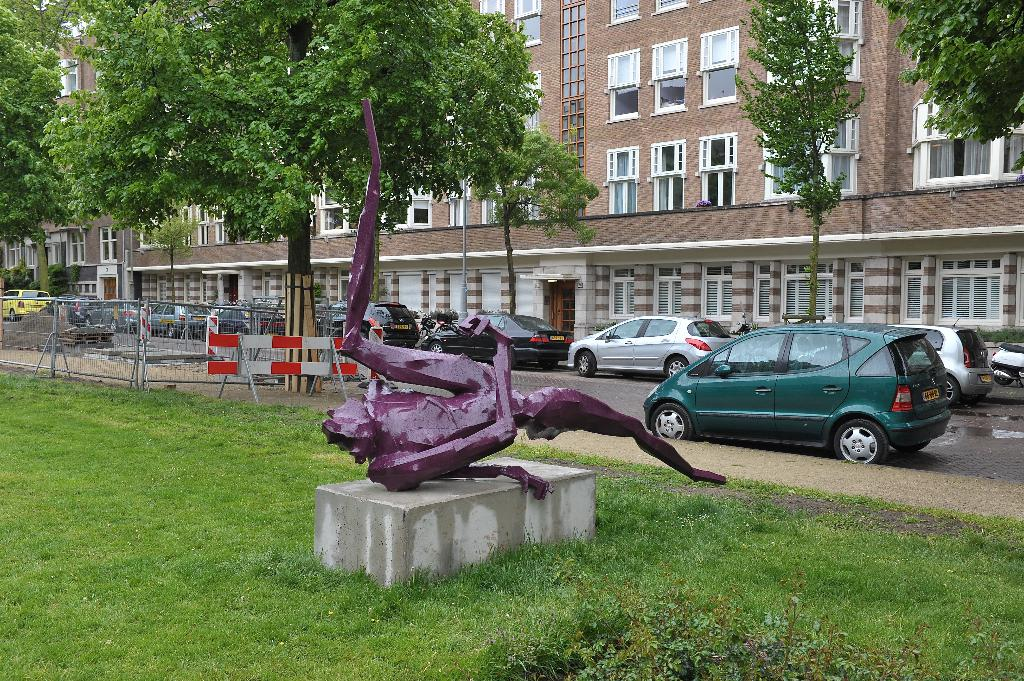Car: (1, 288, 998, 408), (645, 328, 951, 463)
